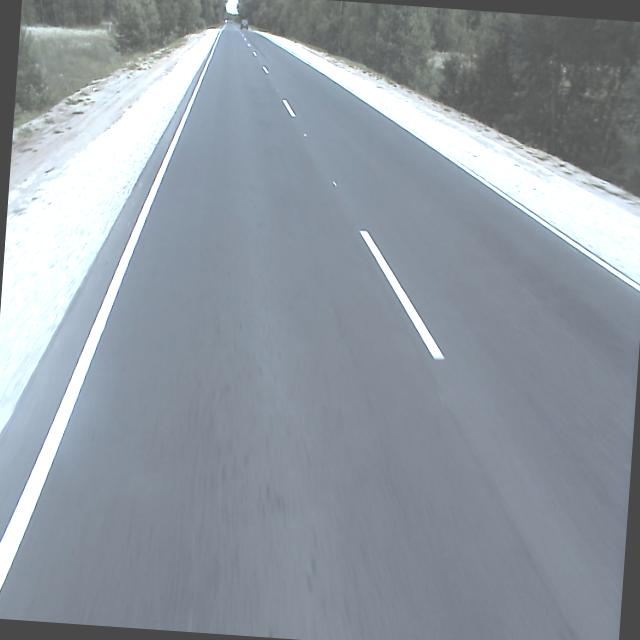road: (0, 22, 640, 640)
